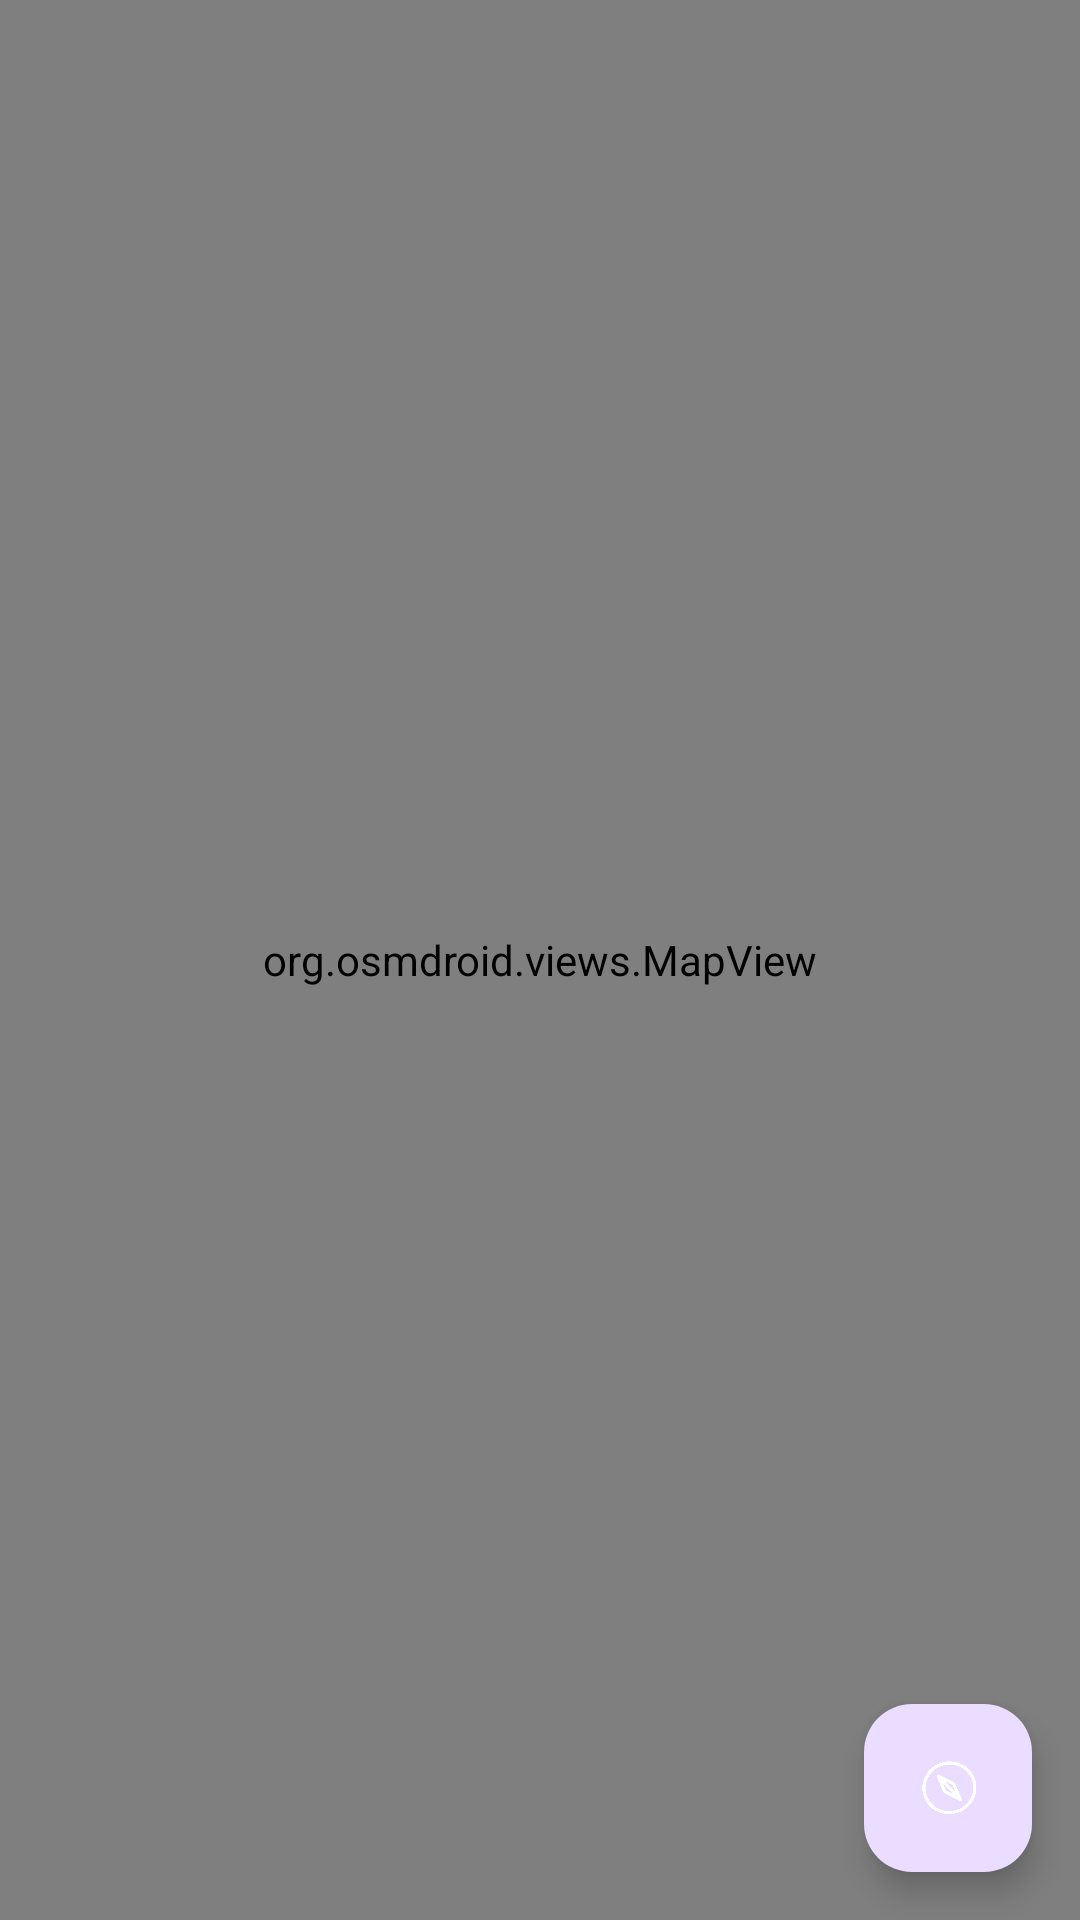

Named icons in this screenshot (1080×1920) and their bounding boxes, (x1, y1, x2, y2):
compass: (864, 1704, 1032, 1872)
